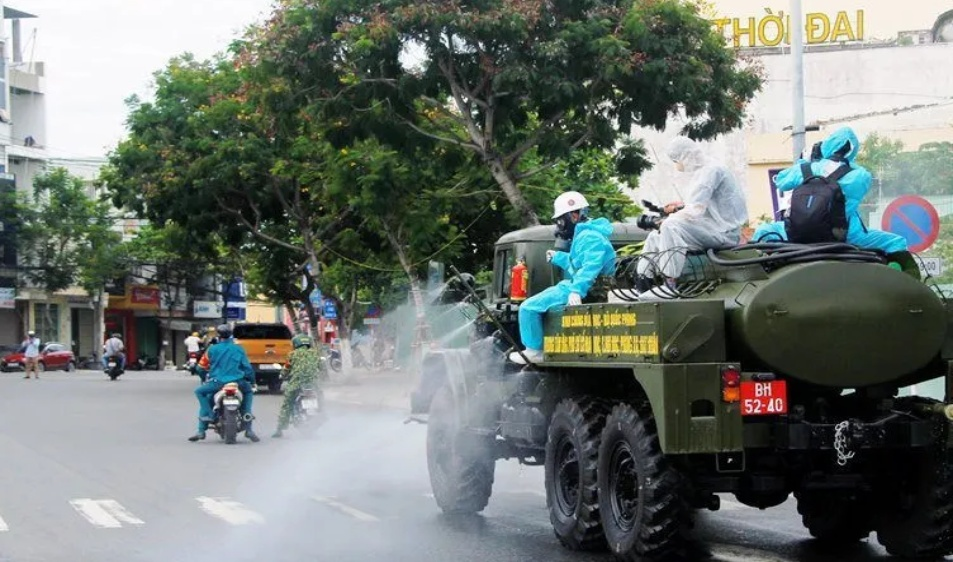plate: (739, 380, 792, 420)
